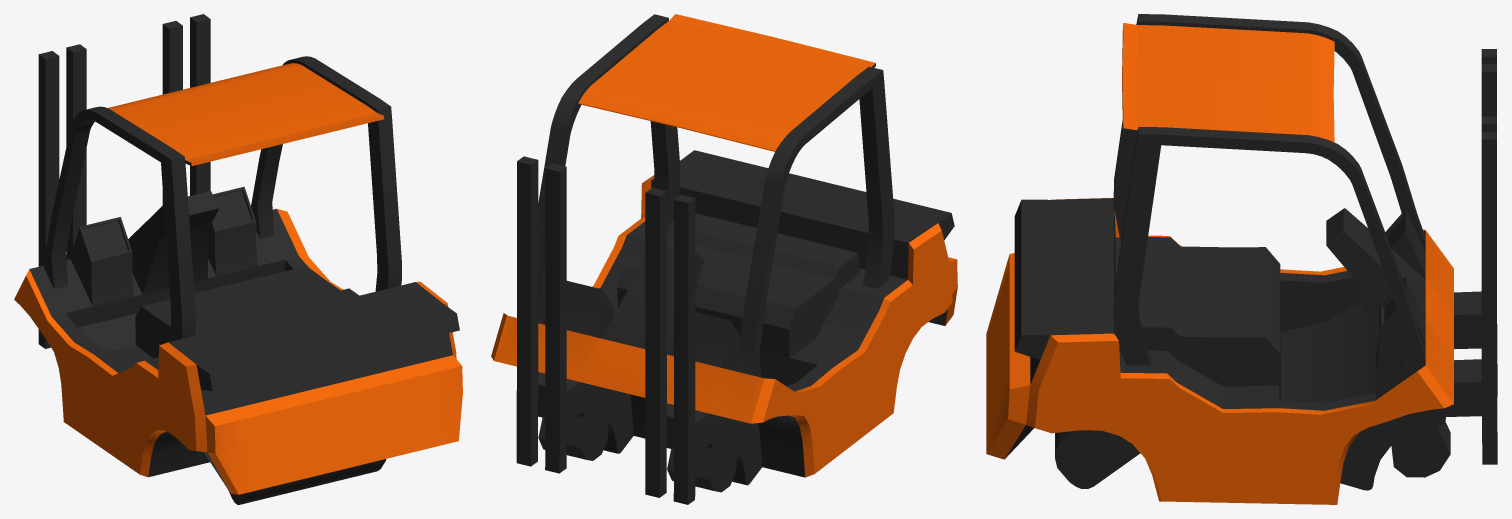
Rendered from Body .fbx.
3 views of the same model, side by side, from view 1: azimuth 30°, elevation 25°; view 2: azimuth 150°, elevation 25°; view 3: azimuth 270°, elevation 25° (orthographic). The views are drawn at different scales.
Visible parts, largest first — view 1: Body; view 2: Body; view 3: Body.
Part boxes in pixels (x1=…): Body: x1=14, y1=14, x2=462, y2=504; Body: x1=491, y1=14, x2=957, y2=504; Body: x1=986, y1=14, x2=1497, y2=504.
Size of the model in its own units: 169 by 208 by 255.
